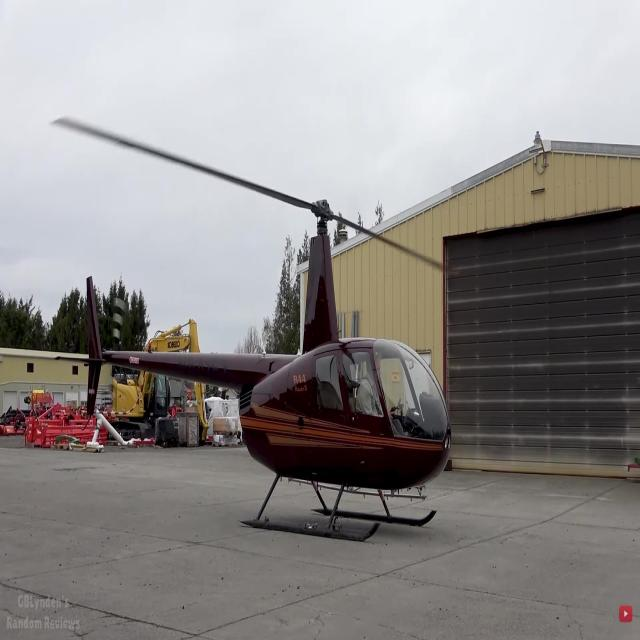CIV_HELO: (55, 197, 453, 547)
